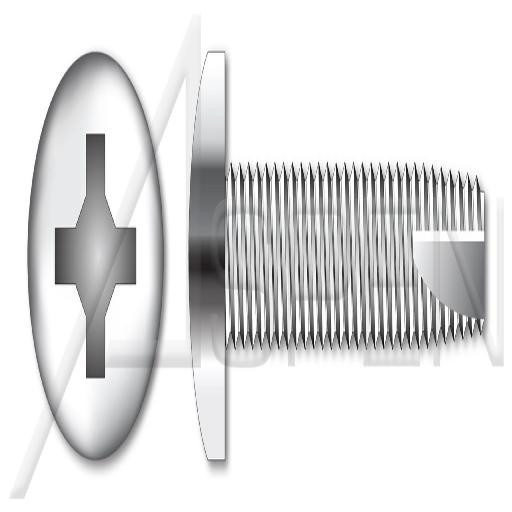Phillips: (27, 50, 166, 468)
